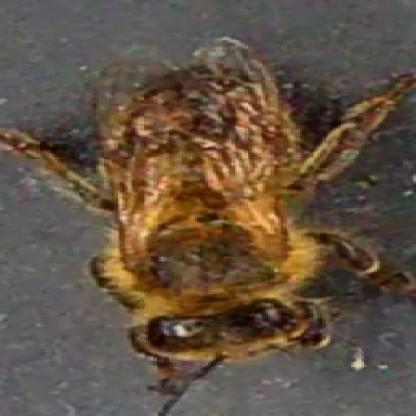bee: (80, 56, 365, 368)
